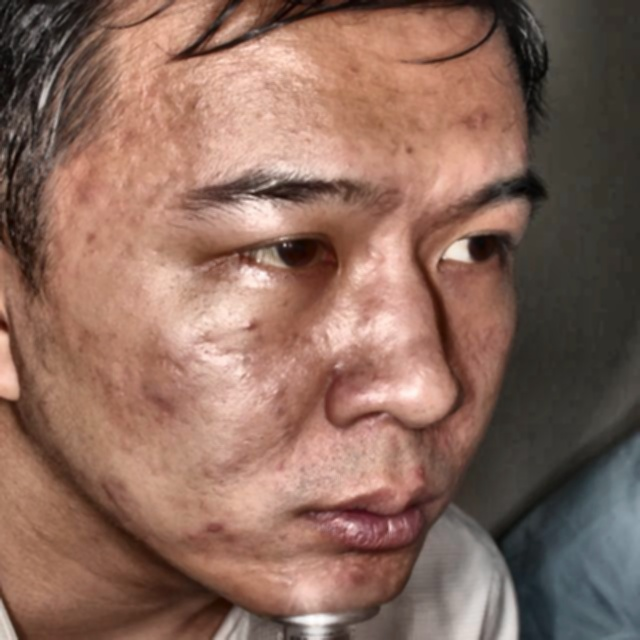comedone: (92, 474, 133, 525), (148, 394, 180, 431), (470, 100, 502, 137), (194, 519, 226, 546), (410, 460, 435, 476)
